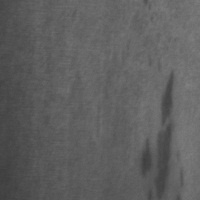inclusion: (147, 102, 185, 199), (156, 66, 180, 130), (137, 133, 155, 177)
